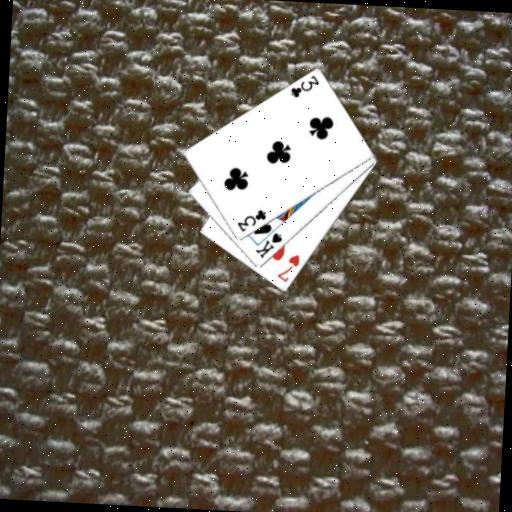3C: (234, 205, 268, 235), (287, 72, 321, 101)
7H: (274, 251, 302, 285)
KS: (252, 229, 284, 261)
